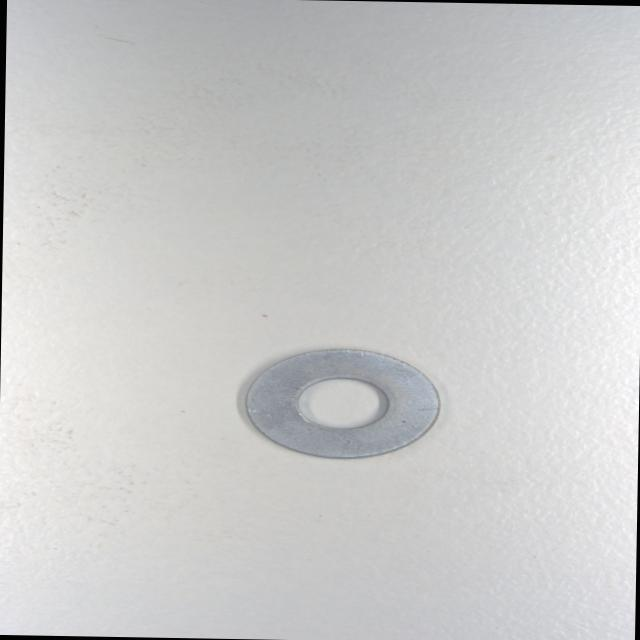washer: (242, 346, 442, 460)
